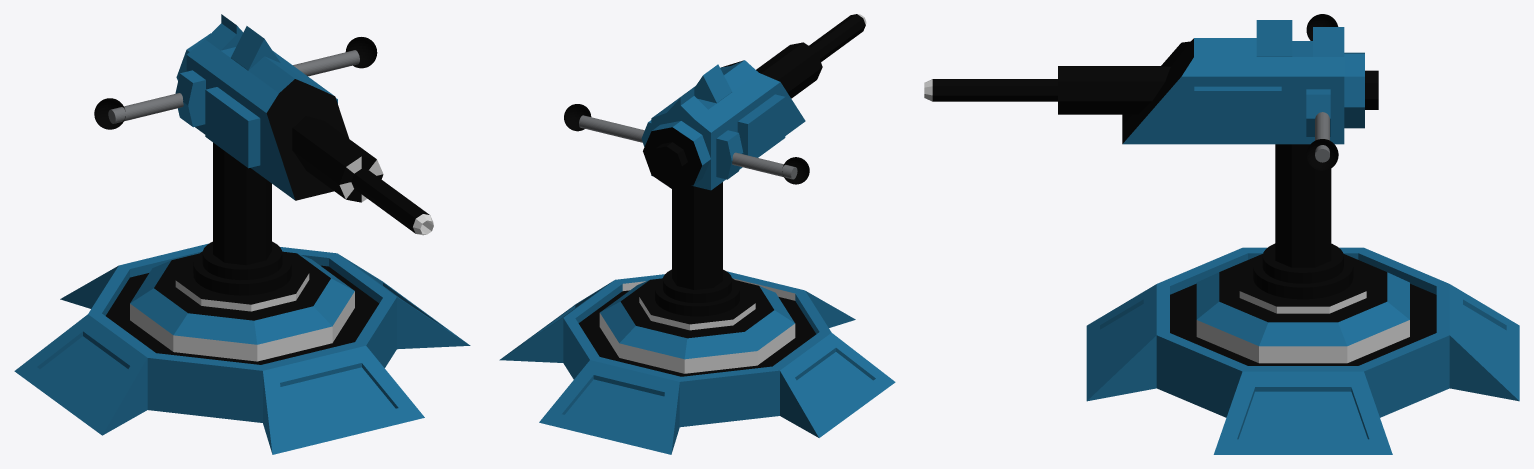
The model's file is turret 1.fbx.
The picture shows the model from 3 angles, left to right: view 1: azimuth 30°, elevation 25°; view 2: azimuth 150°, elevation 25°; view 3: azimuth 270°, elevation 25°; orthographic projection. The views are drawn at different scales.
Parts seen in each view (by area): view 1: base, Cube, cannon, stem, rotator, Cylinder, Sphere, Sphere.001; view 2: base, Cube, cannon, stem, rotator, Cylinder, Sphere, Sphere.001; view 3: base, Cube, cannon, stem, rotator, Sphere, Cylinder.
Part boxes in pixels (x1=…): base: x1=14, y1=243, x2=470, y2=454; Cube: x1=175, y1=14, x2=349, y2=200; cannon: x1=176, y1=33, x2=433, y2=235; stem: x1=213, y1=142, x2=271, y2=265; rotator: x1=193, y1=241, x2=291, y2=295; Cylinder: x1=108, y1=50, x2=359, y2=123; Sphere: x1=345, y1=37, x2=377, y2=68; Sphere.001: x1=94, y1=98, x2=125, y2=129; base: x1=499, y1=271, x2=895, y2=454; Cube: x1=641, y1=60, x2=805, y2=190; cannon: x1=643, y1=14, x2=866, y2=189; stem: x1=672, y1=182, x2=722, y2=289; rotator: x1=655, y1=269, x2=739, y2=316; Cylinder: x1=579, y1=115, x2=797, y2=179; Sphere: x1=564, y1=104, x2=591, y2=131; Sphere.001: x1=782, y1=157, x2=809, y2=184; base: x1=1086, y1=247, x2=1519, y2=454; Cube: x1=1122, y1=20, x2=1344, y2=144; cannon: x1=924, y1=52, x2=1378, y2=128; stem: x1=1275, y1=144, x2=1331, y2=267; rotator: x1=1253, y1=243, x2=1353, y2=299; Sphere: x1=1306, y1=139, x2=1338, y2=170; Cylinder: x1=1315, y1=112, x2=1329, y2=162.
Size of the model in its own units: 185 by 161 by 254.
